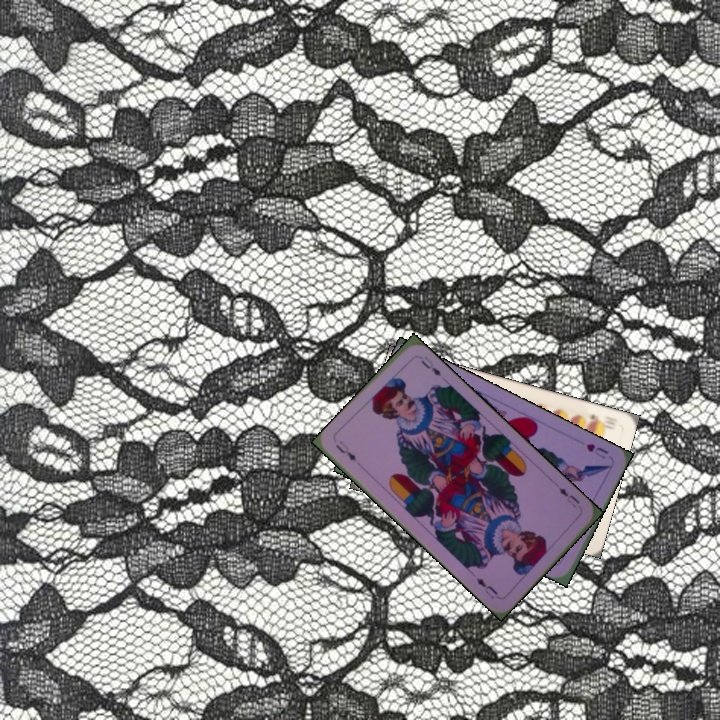E10: (586, 410, 617, 428)
EU: (555, 483, 582, 511), (331, 437, 359, 464)
HU: (582, 439, 611, 461)
